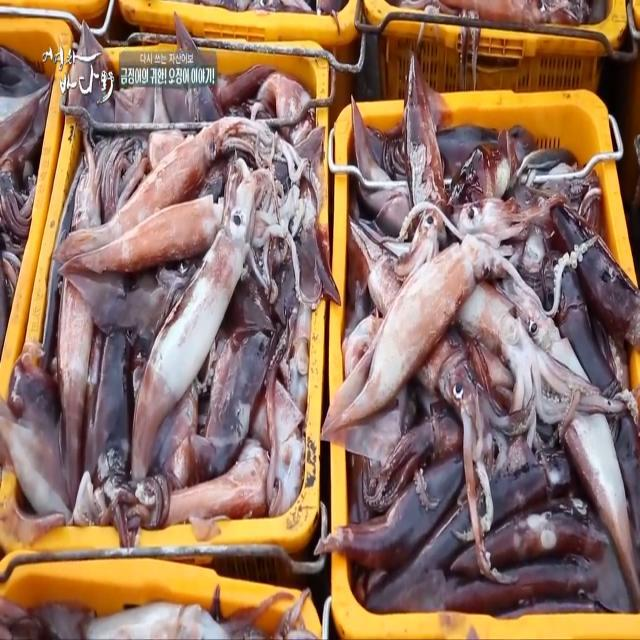squid: (506, 274, 640, 610), (319, 228, 511, 462), (127, 152, 260, 480), (58, 168, 307, 330), (55, 115, 276, 262), (418, 332, 536, 580), (31, 128, 104, 520), (459, 284, 626, 422), (394, 50, 453, 278)
